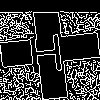H: (25, 25, 66, 74)
